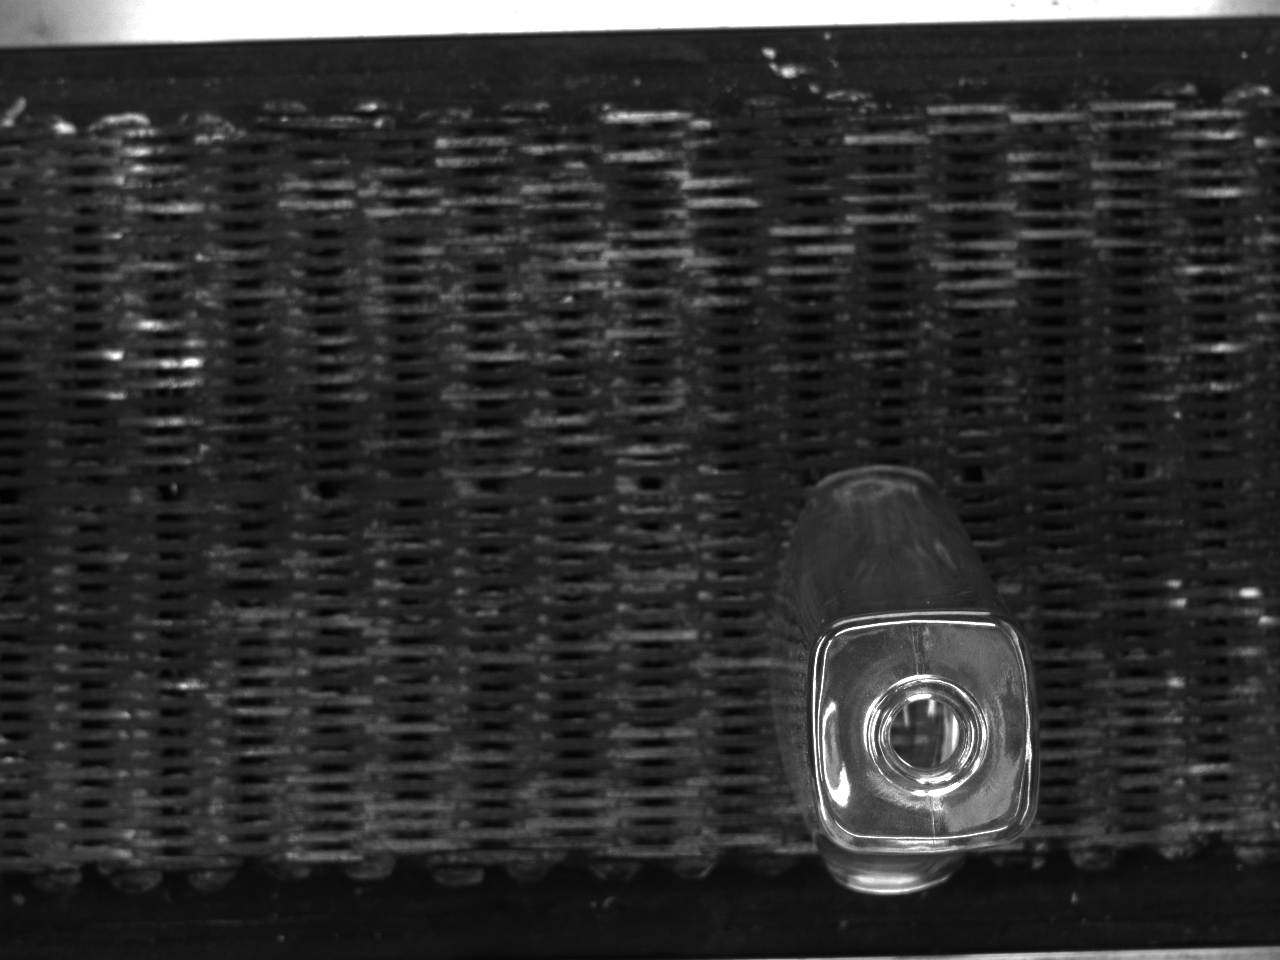bottleneck: (867, 674, 990, 793)
